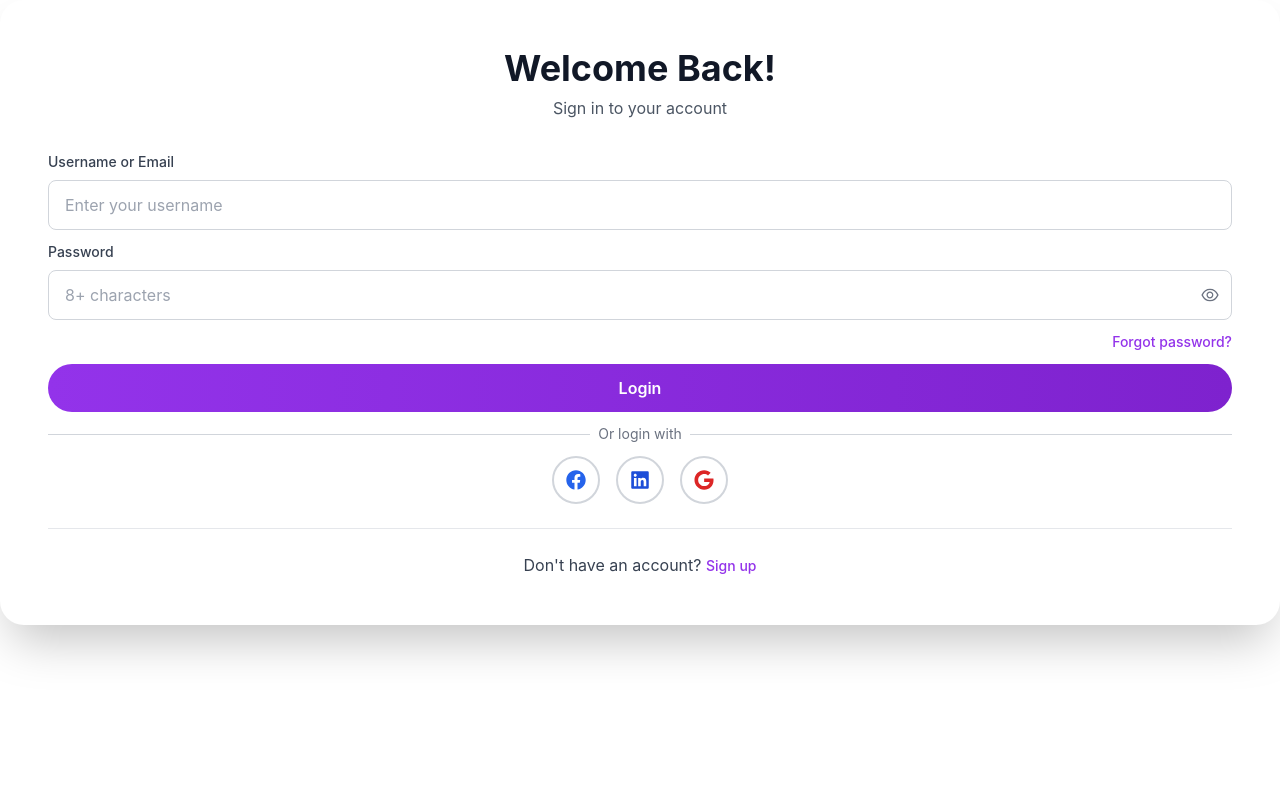
Registration Process Tests › renders registration form when clicking 'Sign up' link
Check: the heading "Welcome Back!" is shown, box [504,46,776,90]
Click the button "Sign up": (731, 566) [706,556,756,576]
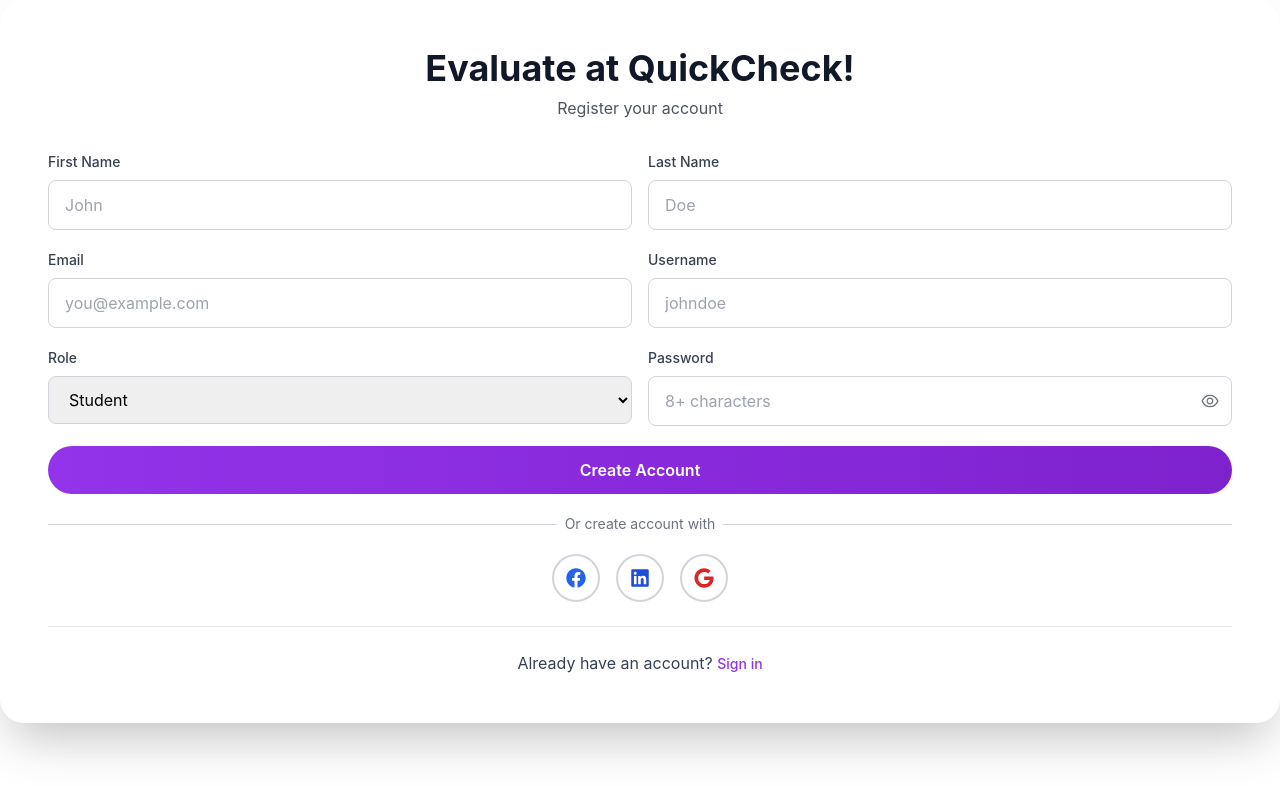
Check: the heading "Evaluate at QuickCheck!" is shown, box [425,46,855,90]
Check: the text "Register your account" is shown, box [557,98,723,118]
